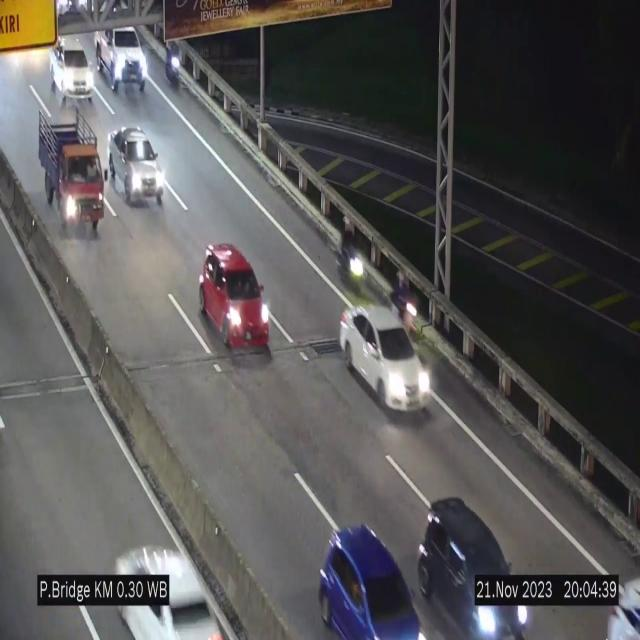Car: (340, 304, 434, 412), (199, 242, 271, 354), (106, 127, 164, 206), (52, 34, 98, 108)
Motorcycle: (393, 268, 421, 338), (340, 225, 366, 299)
Truck: (39, 110, 104, 244)
